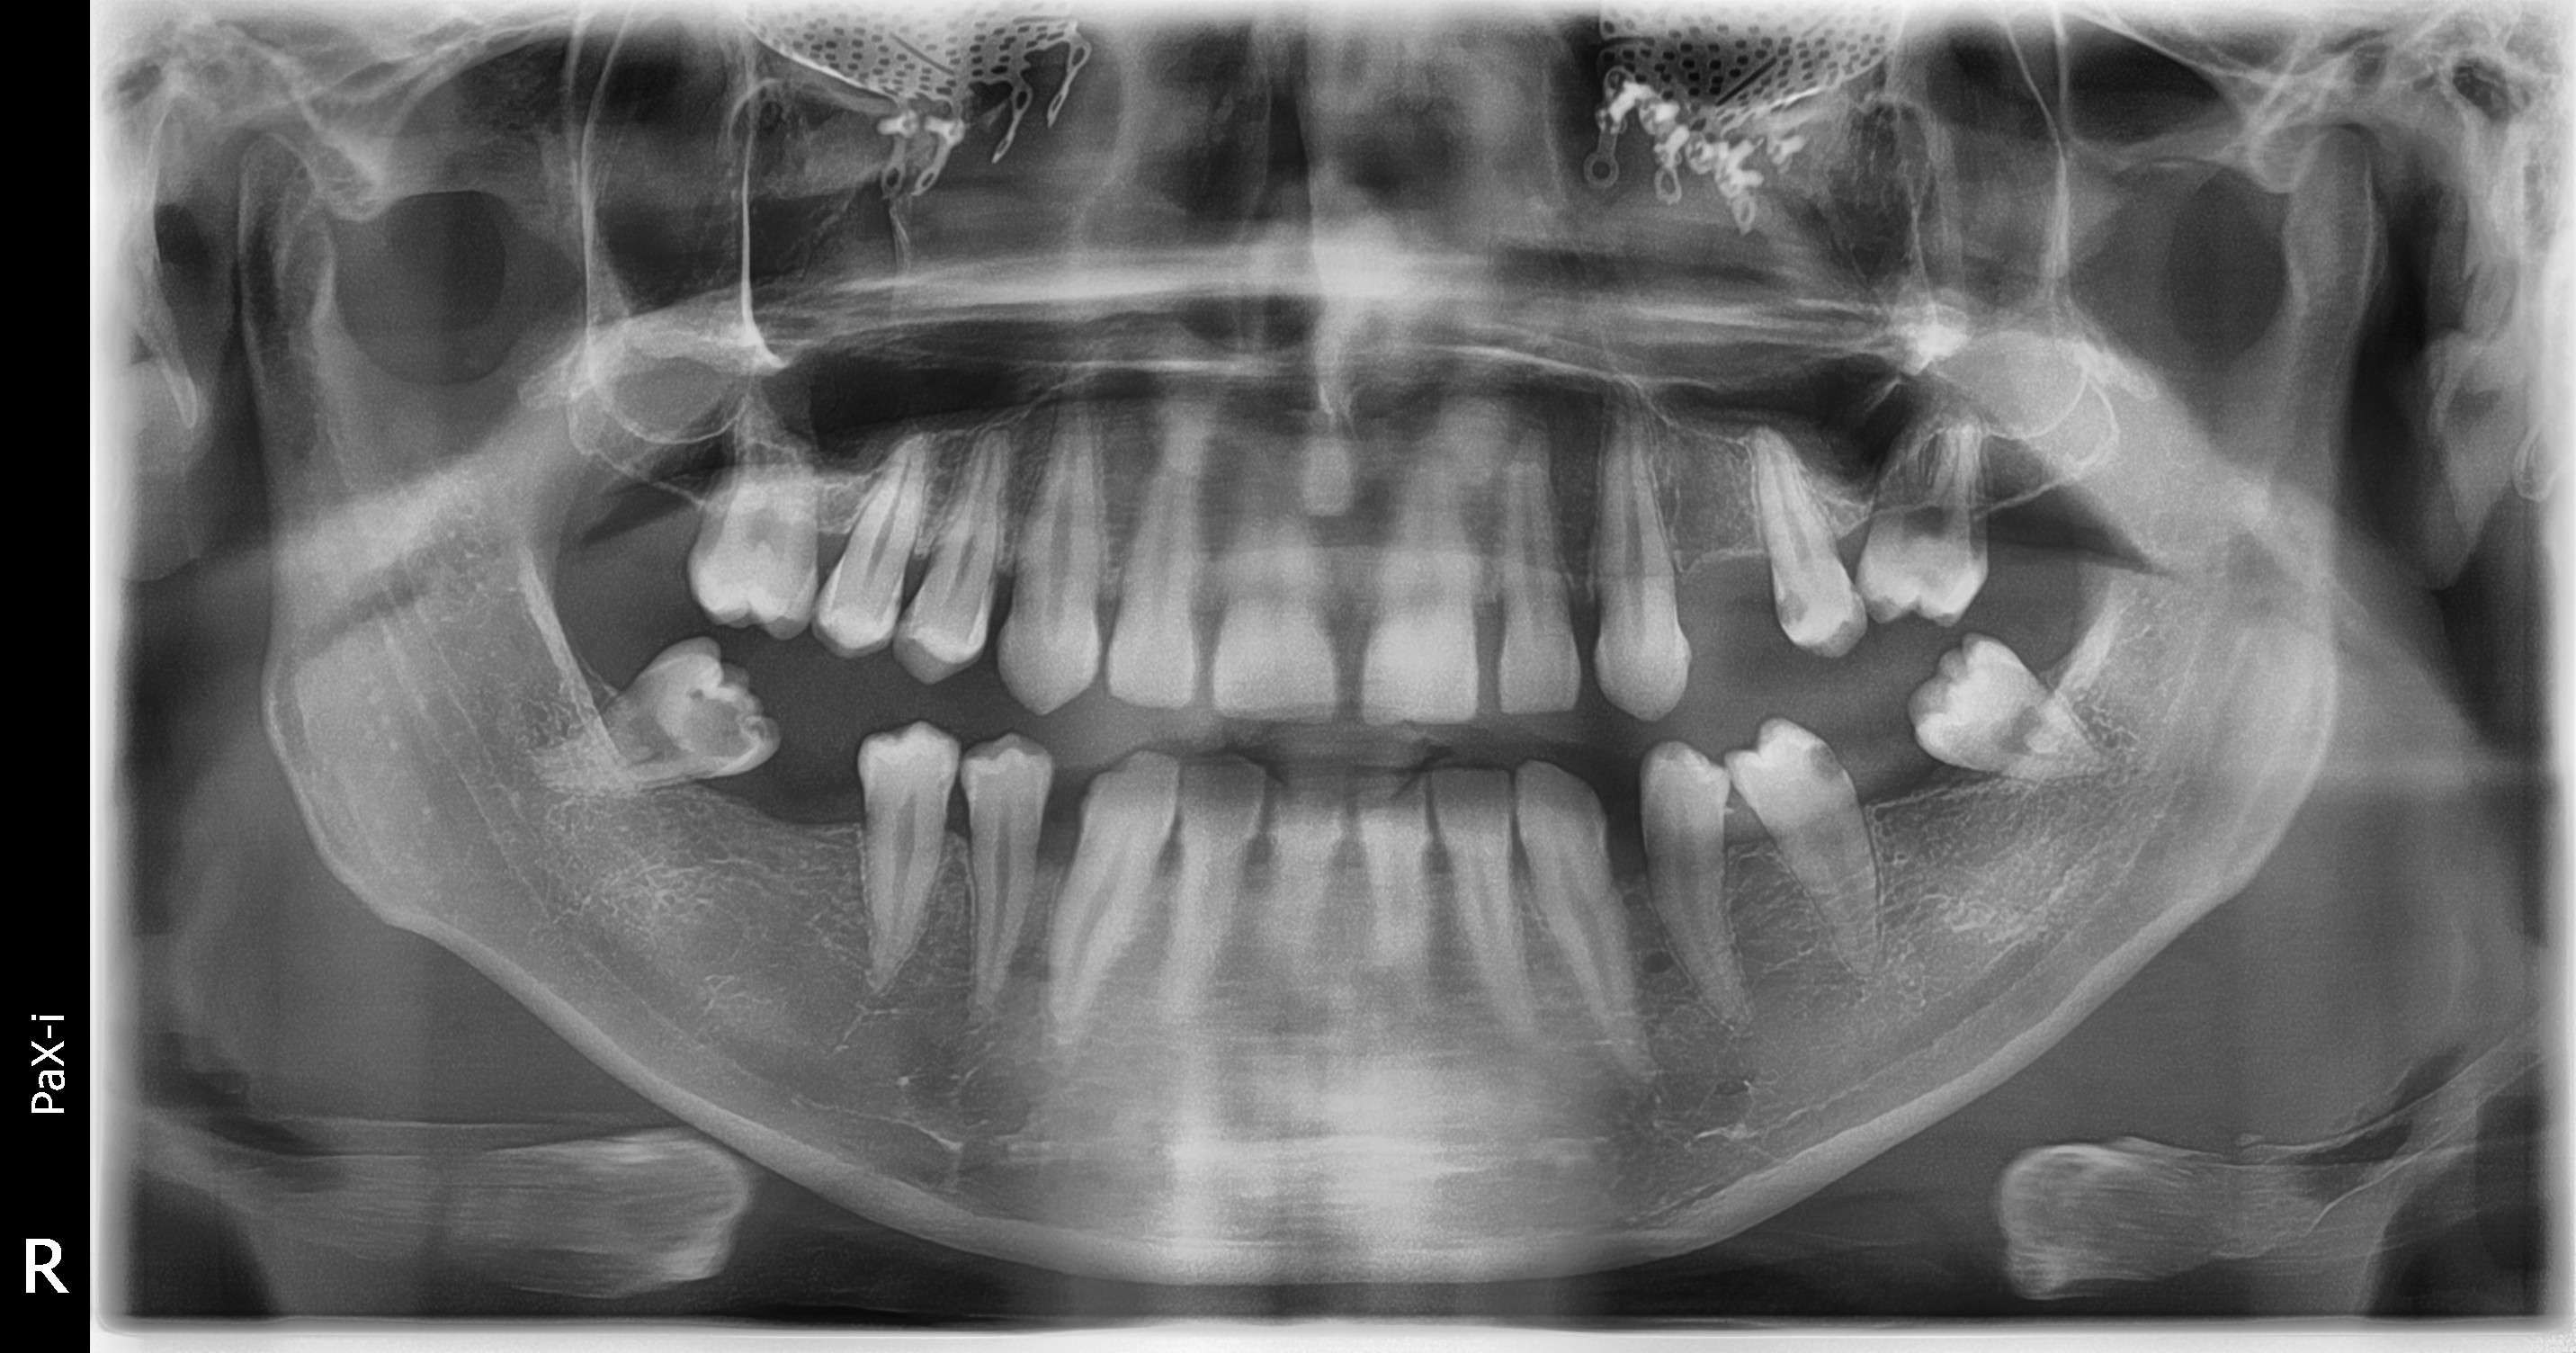CAR: (644, 654, 796, 784), (1777, 726, 1869, 806), (1746, 567, 1828, 641)
